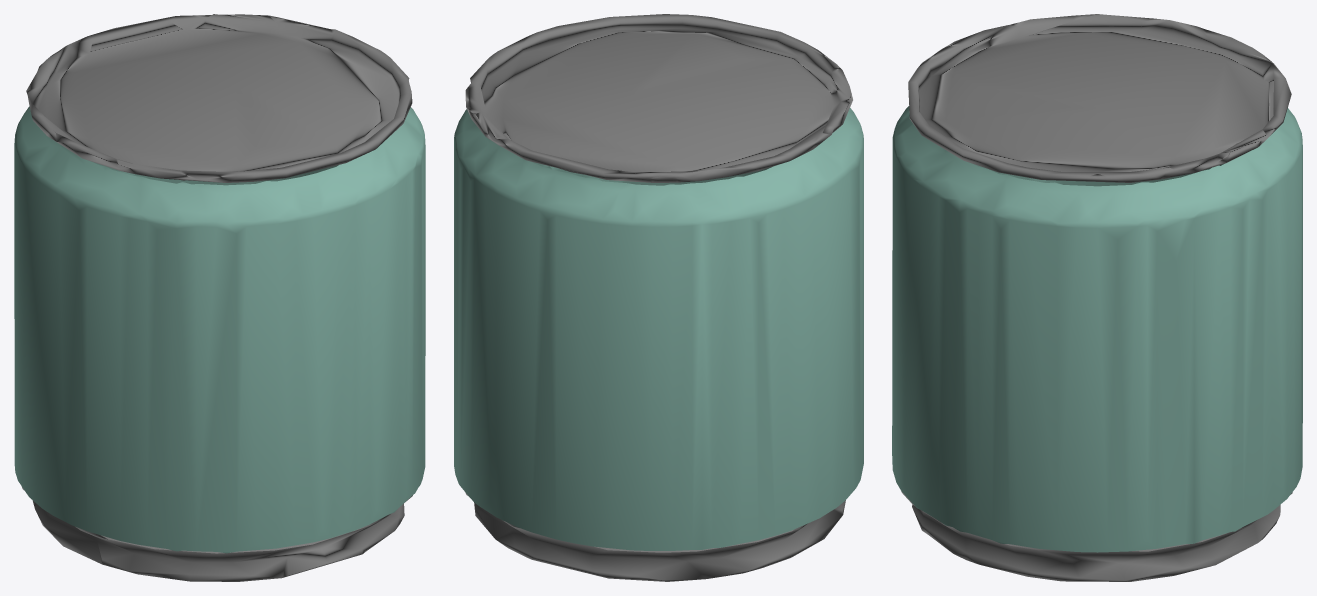
File: alimento_no_perecedero.glb
3 views of the same model, side by side, from view 1: azimuth 30°, elevation 25°; view 2: azimuth 150°, elevation 25°; view 3: azimuth 270°, elevation 25° (orthographic).
Parts seen in each view (by area): view 1: Coke; view 2: Coke; view 3: Coke.
Boxes of the visible parts, left/top/right/bottom form: Coke: left=14, top=14, right=425, bottom=581; Coke: left=454, top=14, right=863, bottom=581; Coke: left=892, top=14, right=1302, bottom=581.
Bounding box in the file's own units: 1.53 × 1.69 × 1.53.
